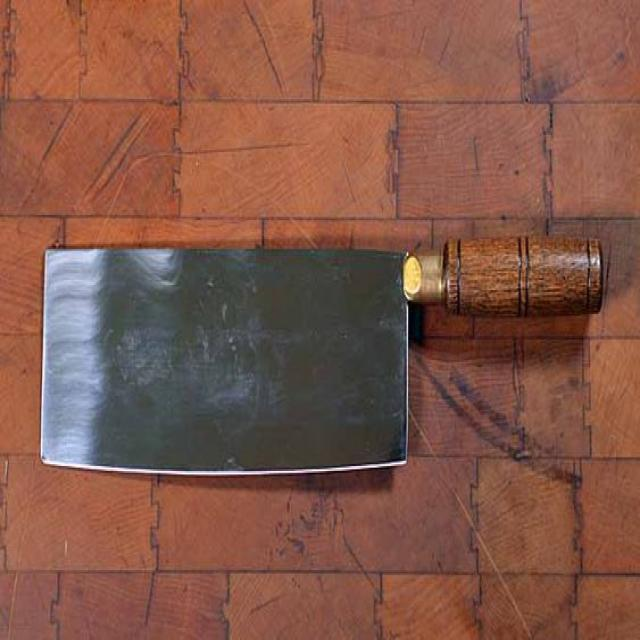cleaver: (42, 234, 612, 469)
